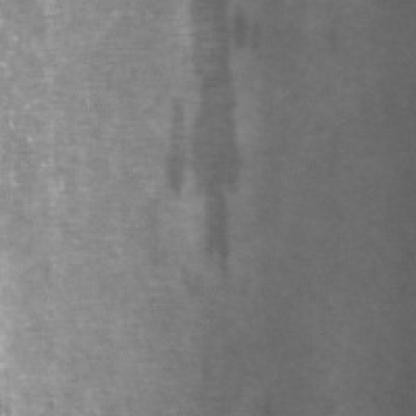inclusion: (158, 6, 254, 274)
